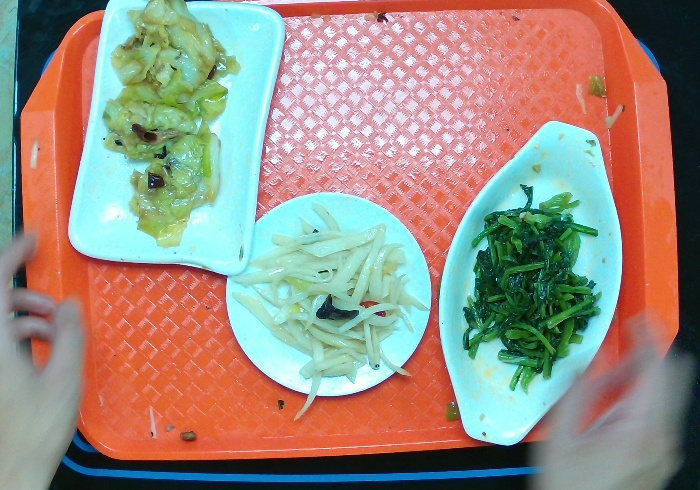RJxy-Si_Fang_Ao_Bian_Wan: (63, 1, 292, 278)
RJxy-Xiao_Yuan_Die: (219, 189, 441, 404)
RJxy-Yu_Pan: (435, 116, 626, 449)
